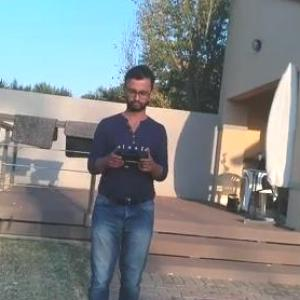follow: (84, 64, 180, 299)
